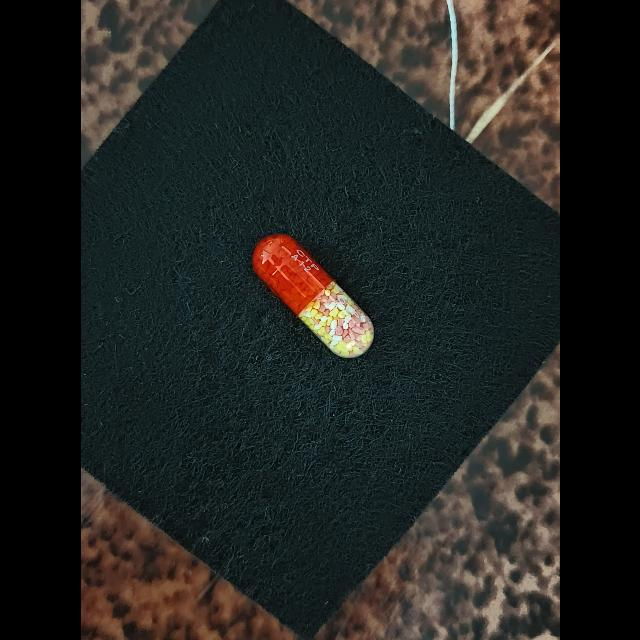Intact Capsule: (252, 234, 374, 358)
